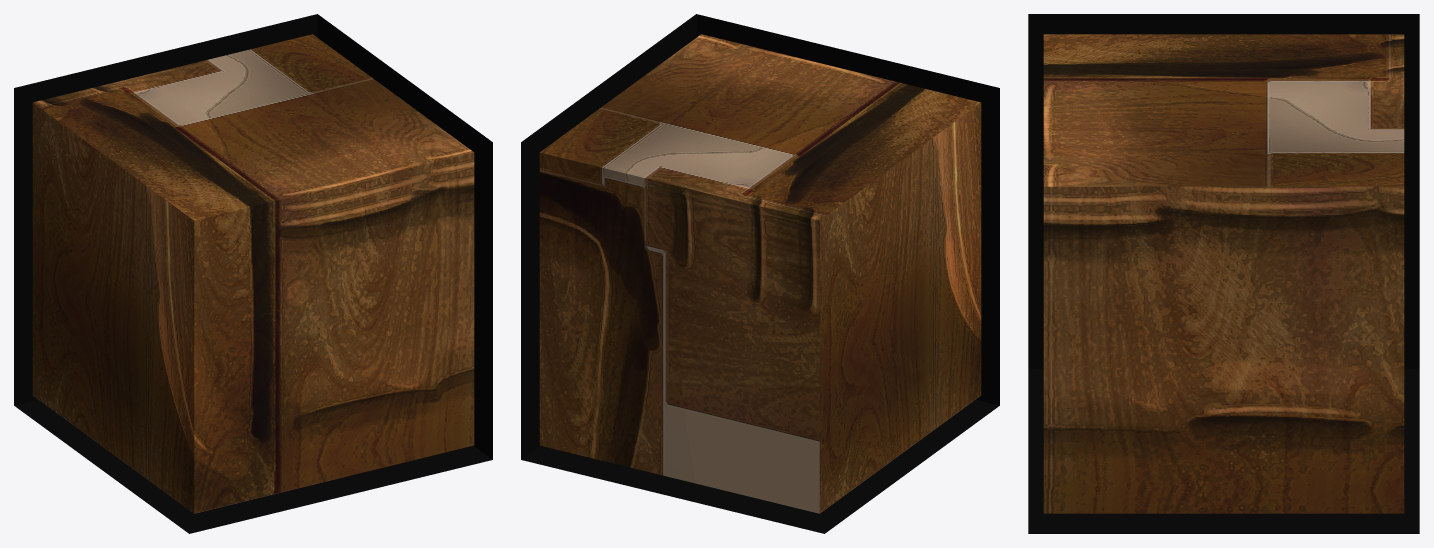
File: aaa.fbx
The picture shows the model from 3 angles, left to right: view 1: azimuth 30°, elevation 25°; view 2: azimuth 150°, elevation 25°; view 3: azimuth 270°, elevation 25°; orthographic projection. The views are drawn at different scales.
Visible parts, largest first — view 1: pCube2, pCube3; view 2: pCube2, pCube3; view 3: pCube2, pCube3.
Part boxes in pixels (bbox=[...]): pCube2: bbox=[32, 34, 474, 513]; pCube3: bbox=[14, 14, 492, 533]; pCube2: bbox=[539, 34, 981, 513]; pCube3: bbox=[521, 14, 999, 533]; pCube2: bbox=[1043, 34, 1404, 513]; pCube3: bbox=[1028, 14, 1419, 533].
Size of the model in its own units: 59.11 by 59.11 by 59.11.
